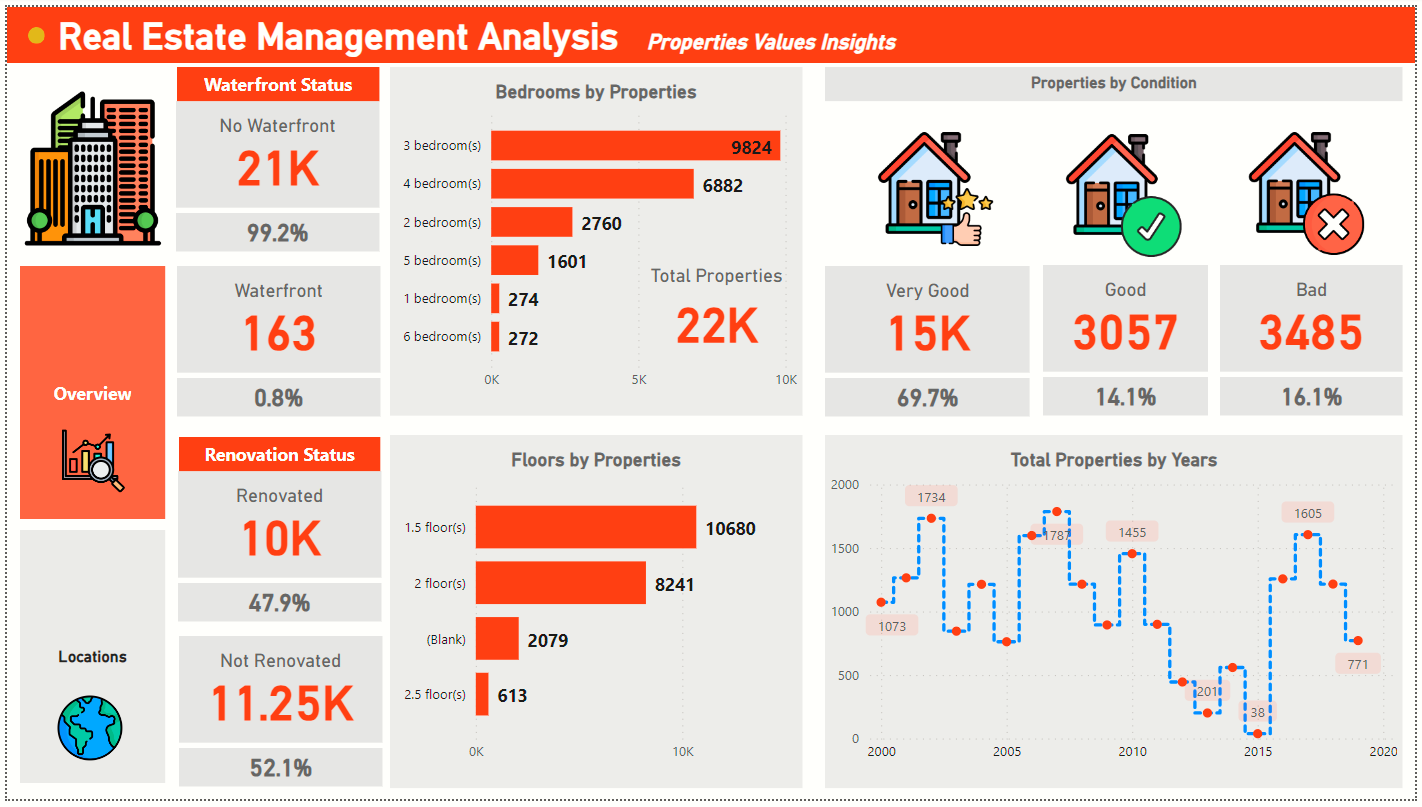

The dashboard page shown, as its layout file describes it:
{"tool":"powerbi","page":{"name":"Overview","canvas":[1280,720],"ordinal":0},"visuals":[{"type":"shape","box":[0,0,1280,50.9],"z":0},{"type":"textbox","box":[41.8,1.8,952.7,49.1],"z":1000},{"type":"shape","box":[19.1,18.2,15.5,15.5],"z":2000},{"type":"card","title":"No Waterfront","fields":{"Values":["Measures Table.Waterfront Not"]},"box":[153.6,85.5,184.5,97.3],"z":3000},{"type":"card","title":"No Waterfront","fields":{"Values":["Measures Table.% Waterfront Not"]},"box":[153.6,187.3,184.5,34.5],"z":4000},{"type":"textbox","box":[154.5,54.5,183.6,30.9],"z":5000},{"type":"card","title":"Waterfront","fields":{"Values":["Measures Table.Waterfront Yes"]},"box":[154.5,235.5,184.5,97.3],"z":6000},{"type":"card","title":"No Waterfront","fields":{"Values":["Measures Table.% Waterfront Yes"]},"box":[154.5,337.3,184.5,34.5],"z":7000},{"type":"card","title":"Renovated","fields":{"Values":["Measures Table.Renovated"]},"box":[155.4,421.8,184.5,97.3],"z":8000},{"type":"card","title":"No Waterfront","fields":{"Values":["Measures Table.% Renovated"]},"box":[155.4,523.6,184.5,34.5],"z":9000},{"type":"textbox","box":[156.4,390.9,182.7,30.9],"z":10000},{"type":"card","title":"Not Renovated","fields":{"Values":["Measures Table.Not Renovated"]},"box":[156.3,571.8,184.5,97.3],"z":11000},{"type":"card","title":"No Waterfront","fields":{"Values":["Measures Table.% Not Renovated"]},"box":[156.3,673.6,184.5,34.5],"z":12000},{"type":"barChart","title":"Bedrooms by Properties","fields":{"Y":["Measures Table.Total Properties"],"Category":["Dim_Bedrooms.Bedrooms"]},"box":[348.2,54.5,374.5,317.3],"z":13000},{"type":"barChart","title":"Floors by Properties","fields":{"Y":["Measures Table.Total Properties"],"Category":["Dim_Floors.Floors"]},"box":[348.2,389.1,374.5,320.9],"z":14000},{"type":"card","title":"Total Properties","fields":{"Values":["Measures Table.Total Properties"]},"box":[567.3,221.8,155.5,109.1],"z":15000},{"type":"image","box":[717.3,104.5,250,130.9],"z":16000},{"type":"image","box":[888.2,106.4,250,130],"z":17000},{"type":"image","box":[1077.3,104.5,202.7,130],"z":18000},{"type":"card","title":"Very Good","fields":{"Values":["Measures Table.Very Good"]},"box":[743.6,235.5,186.4,97.3],"z":19000},{"type":"card","title":"No Waterfront","fields":{"Values":["Measures Table.% Very Good"]},"box":[743.6,337.3,186.4,34.5],"z":20000},{"type":"card","title":"Good","fields":{"Values":["Measures Table.Good"]},"box":[941.7,234.5,150,97.3],"z":21000},{"type":"card","title":"No Waterfront","fields":{"Values":["Measures Table.% Good"]},"box":[941.7,336.4,150,34.5],"z":22000},{"type":"card","title":"Bad","fields":{"Values":["Measures Table.Bad"]},"box":[1102.7,234.5,166.4,97.3],"z":23000},{"type":"card","title":"No Waterfront","fields":{"Values":["Measures Table.% Bad"]},"box":[1102.7,336.4,166.4,34.5],"z":24000},{"type":"textbox","box":[743.6,54.5,525.5,30.9],"z":25000},{"type":"lineChart","title":"Total Properties by Years","fields":{"Y":["Measures Table.Total Properties"],"Category":["Fact Table.yr_built"]},"box":[743.6,389.1,525.5,320.9],"z":26000},{"type":"image","box":[0,71.8,156.4,150],"z":27000},{"type":"pageNavigator","title":"Overview","box":[11.8,235.5,132.7,471.8],"z":28000},{"type":"image","box":[40.9,378.2,73.6,69.1],"z":29000},{"type":"image","box":[40.9,620.9,69.1,69.1],"z":30000}]}

Visuals, with their boxes in screenshot pixels (x1, y1, x2, y2), scaled from the page's 1280x720 canvas onto the 1422x807 screenshot:
shape: BBox(0, 0, 1421, 57)
textbox: BBox(46, 2, 1105, 57)
shape: BBox(21, 20, 38, 38)
"No Waterfront" card: BBox(171, 96, 376, 205)
"No Waterfront" card: BBox(171, 210, 376, 249)
textbox: BBox(172, 61, 376, 96)
"Waterfront" card: BBox(172, 264, 377, 373)
"No Waterfront" card: BBox(172, 378, 377, 417)
"Renovated" card: BBox(173, 473, 378, 582)
"No Waterfront" card: BBox(173, 587, 378, 626)
textbox: BBox(174, 438, 377, 473)
"Not Renovated" card: BBox(174, 641, 379, 750)
"No Waterfront" card: BBox(174, 755, 379, 794)
"Bedrooms by Properties" barChart: BBox(387, 61, 803, 417)
"Floors by Properties" barChart: BBox(387, 436, 803, 796)
"Total Properties" card: BBox(630, 249, 803, 371)
image: BBox(797, 117, 1075, 264)
image: BBox(987, 119, 1264, 265)
image: BBox(1197, 117, 1421, 263)
"Very Good" card: BBox(826, 264, 1033, 373)
"No Waterfront" card: BBox(826, 378, 1033, 417)
"Good" card: BBox(1046, 263, 1213, 372)
"No Waterfront" card: BBox(1046, 377, 1213, 416)
"Bad" card: BBox(1225, 263, 1410, 372)
"No Waterfront" card: BBox(1225, 377, 1410, 416)
textbox: BBox(826, 61, 1410, 96)
"Total Properties by Years" lineChart: BBox(826, 436, 1410, 796)
image: BBox(0, 80, 174, 249)
"Overview" pageNavigator: BBox(13, 264, 161, 793)
image: BBox(45, 424, 127, 501)
image: BBox(45, 696, 122, 773)
